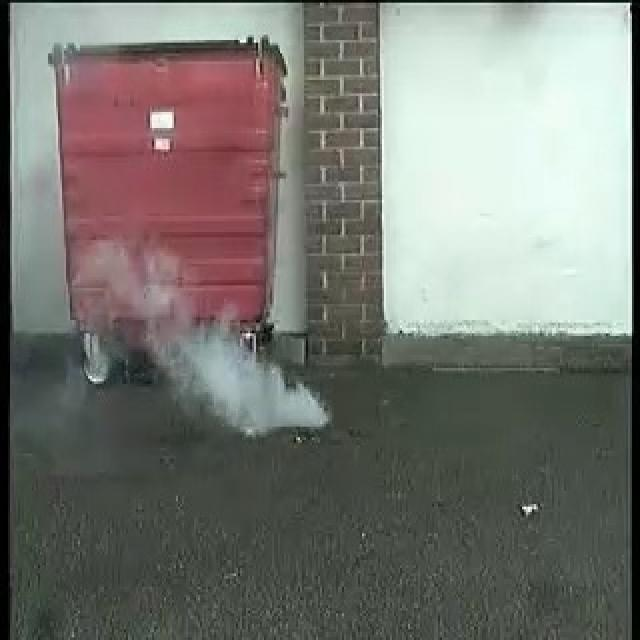smoke: (72, 255, 330, 430)
